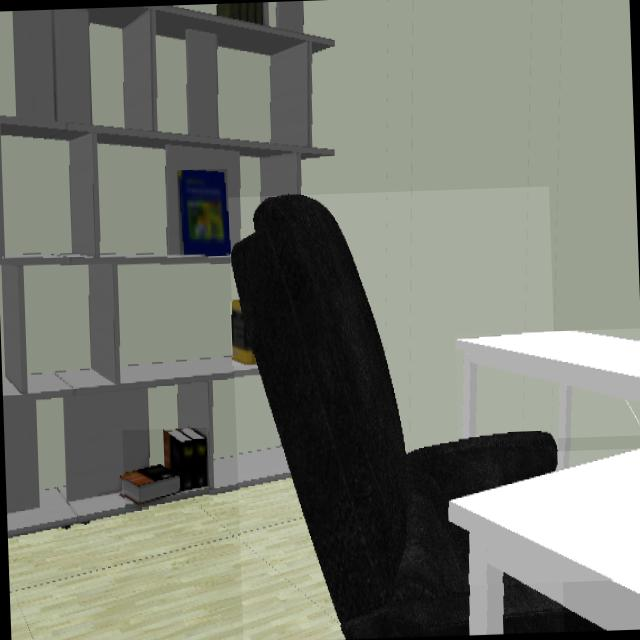book: (123, 429, 207, 508), (178, 170, 229, 255), (232, 301, 254, 365)
chair: (230, 195, 558, 638)
table: (449, 449, 640, 584), (455, 331, 640, 429)
